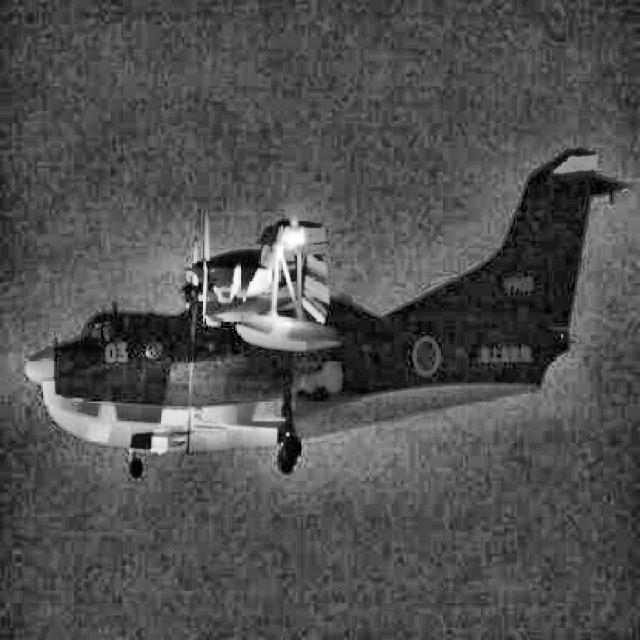US2: (25, 150, 629, 478)
